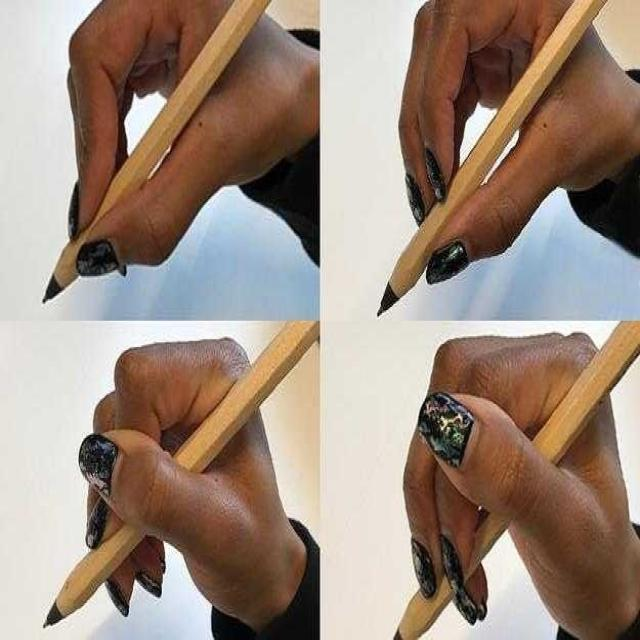pencil: (19, 321, 317, 638), (27, 0, 290, 325), (392, 313, 639, 638)
